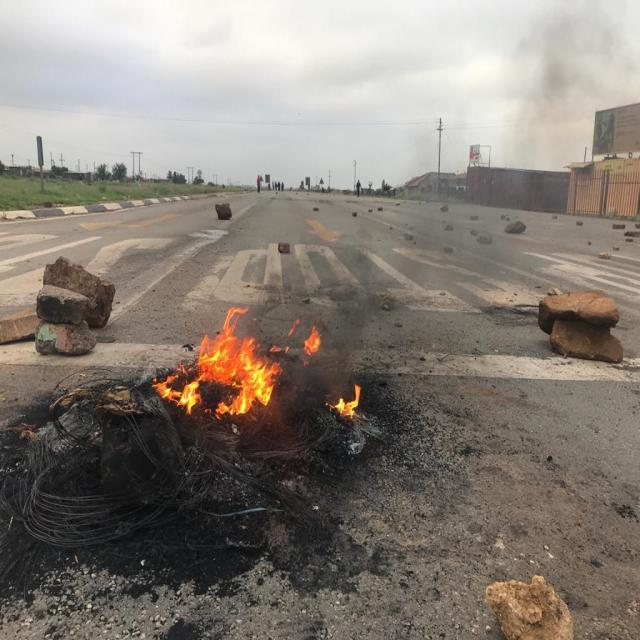Fire: (156, 309, 276, 424), (328, 382, 362, 420), (300, 322, 322, 358)
